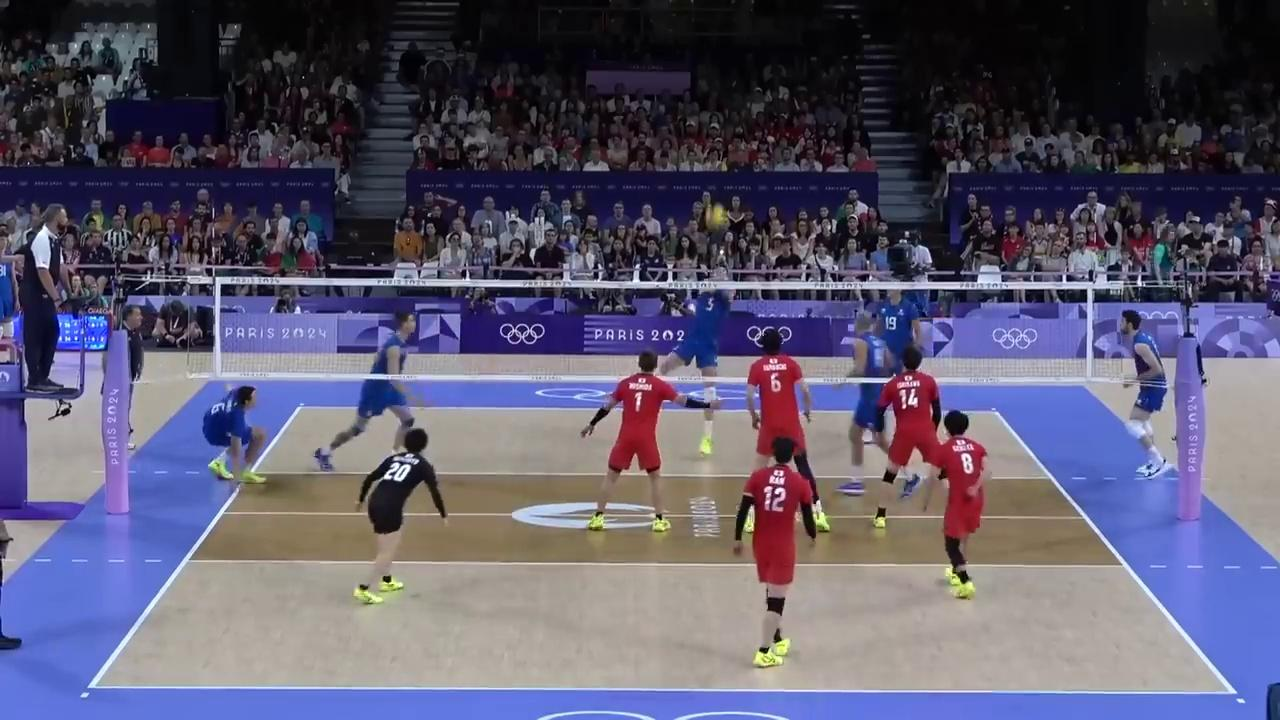ball: (706, 205, 724, 229)
